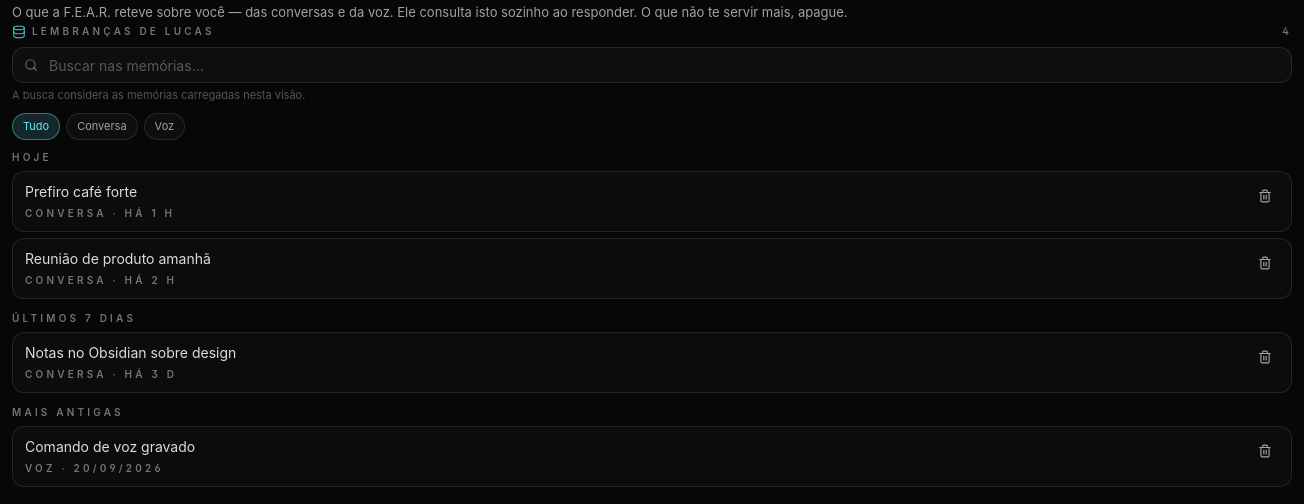
Scenario: MemoryTab — search, filters, grouping › shows a no-results state when the search matches nothing
This screenshot has width=1304, height=504.
Expected: the text "Prefiro café forte" is shown, left=25, top=182, right=137, bottom=200
Type "zzzzz" into the field with placeholder "Buscar nas memórias…" at (652, 65), box left=12, top=47, right=1292, bottom=83
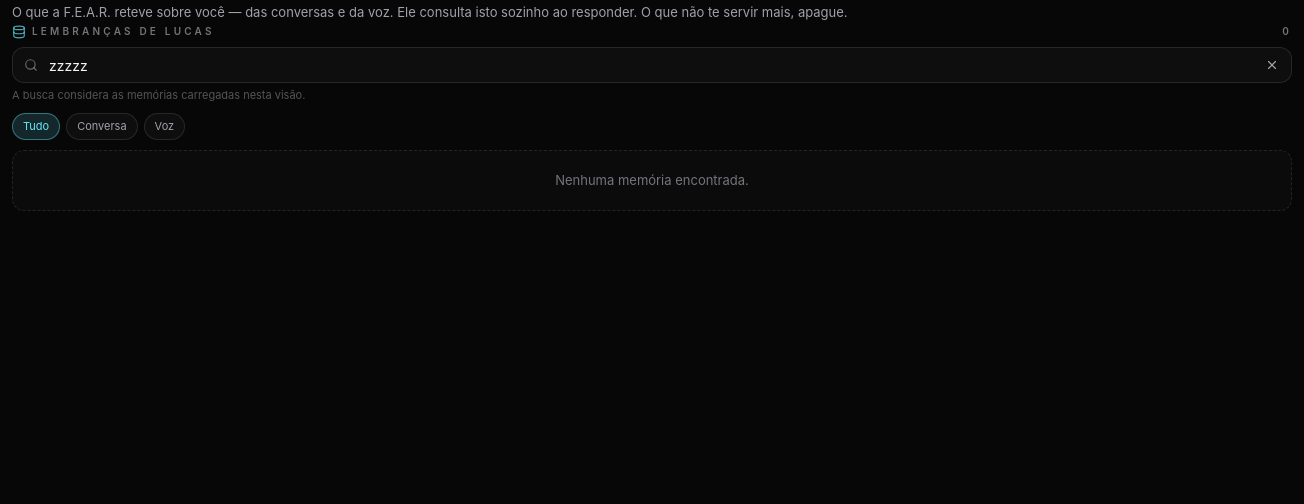
Result: the text "Nenhuma memória encontrada." is shown at left=12, top=150, right=1292, bottom=211
